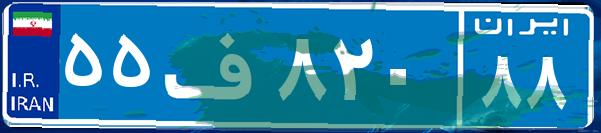0: (385, 28, 445, 110)
2: (330, 28, 385, 110)
5: (57, 26, 110, 107), (110, 28, 158, 105)
8: (273, 28, 330, 110), (475, 38, 525, 113), (525, 38, 570, 115)
ف: (158, 15, 273, 115)
